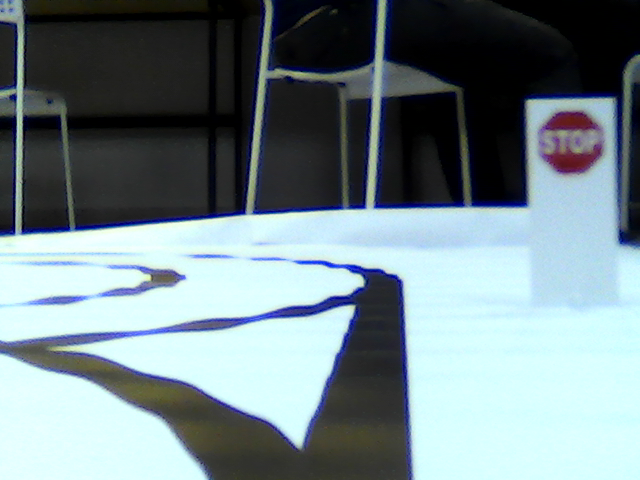Stop: (539, 113, 601, 172)
